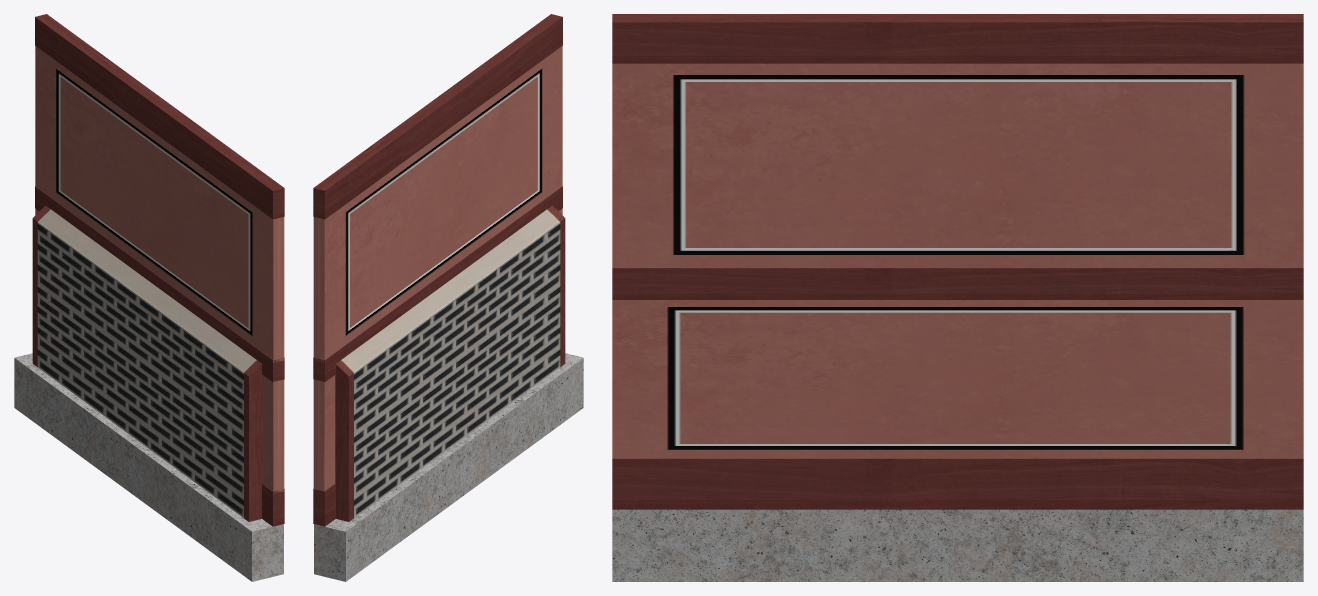
File: SM_Wall07D.fbx
3 views of the same model, side by side, from view 1: azimuth 30°, elevation 25°; view 2: azimuth 150°, elevation 25°; view 3: azimuth 270°, elevation 25° (orthographic). The views are drawn at different scales.
Visible parts, largest first — view 1: SM_Wall07D; view 2: SM_Wall07D; view 3: SM_Wall07D.
Boxes of the visible parts, bbox=[...] form: SM_Wall07D: bbox=[14, 14, 284, 581]; SM_Wall07D: bbox=[313, 14, 583, 581]; SM_Wall07D: bbox=[612, 14, 1303, 581].
Bounding box in the file's own units: 24.59 × 310 × 277.
